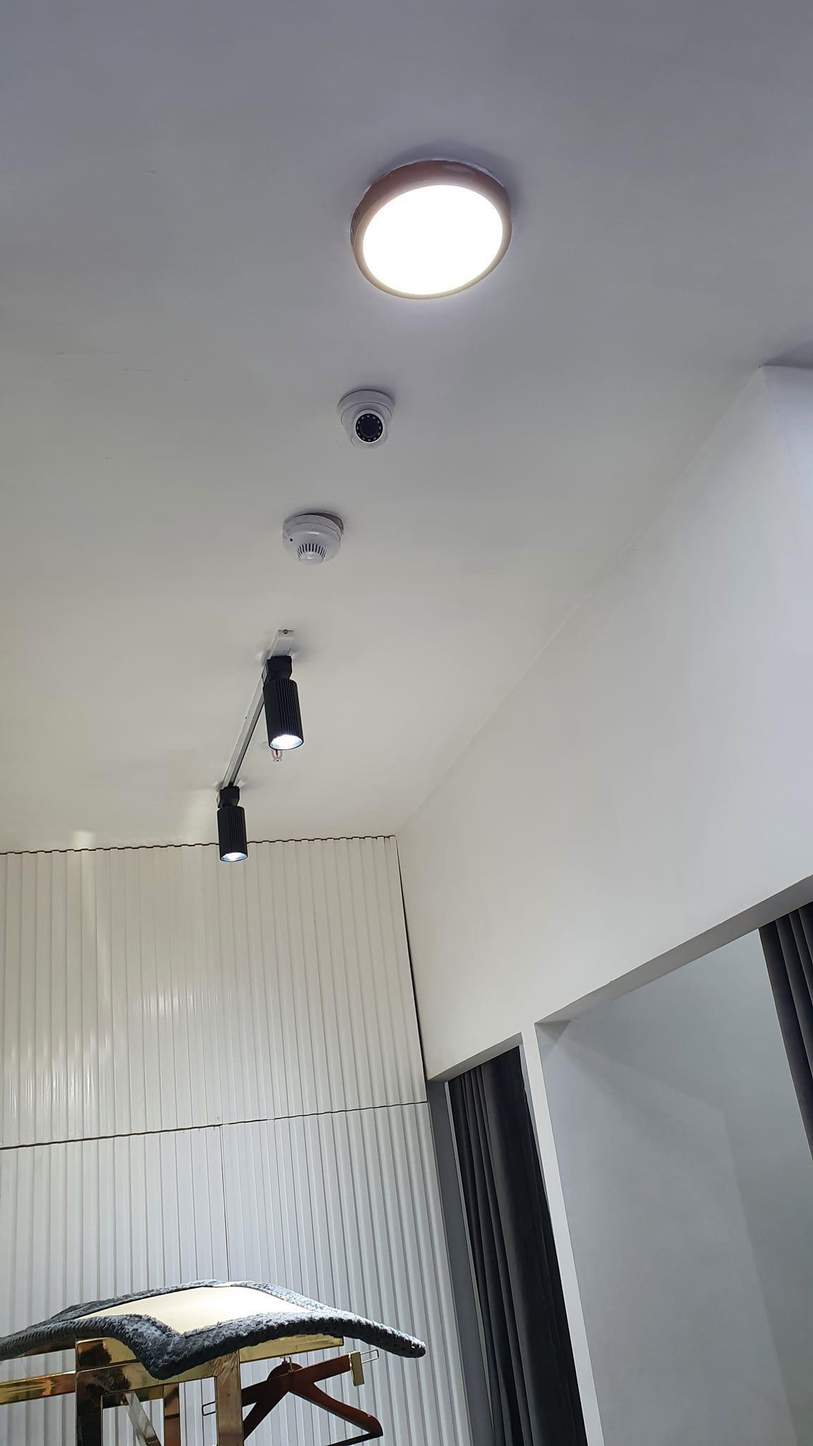CCTV: (336, 384, 397, 451)
